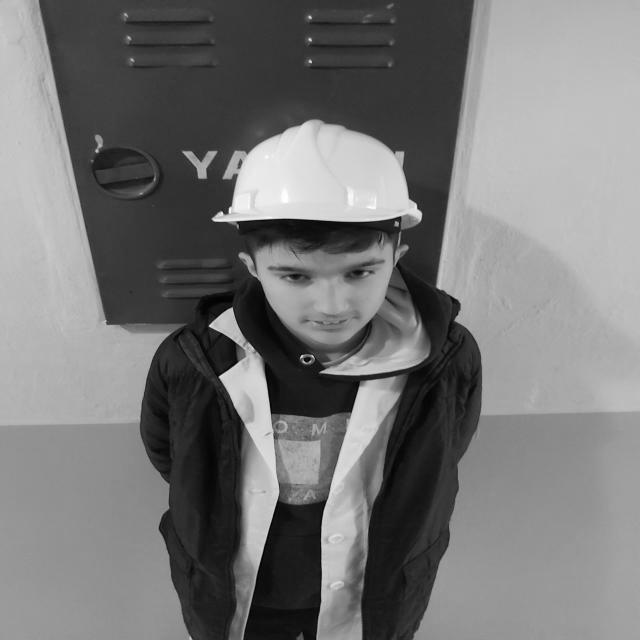construction helmet: (212, 121, 423, 235)
